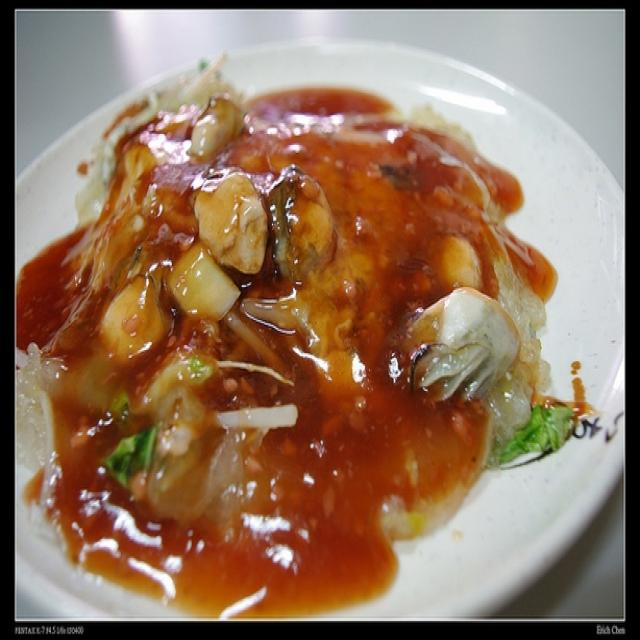熟制海鲜: (22, 42, 560, 606)
